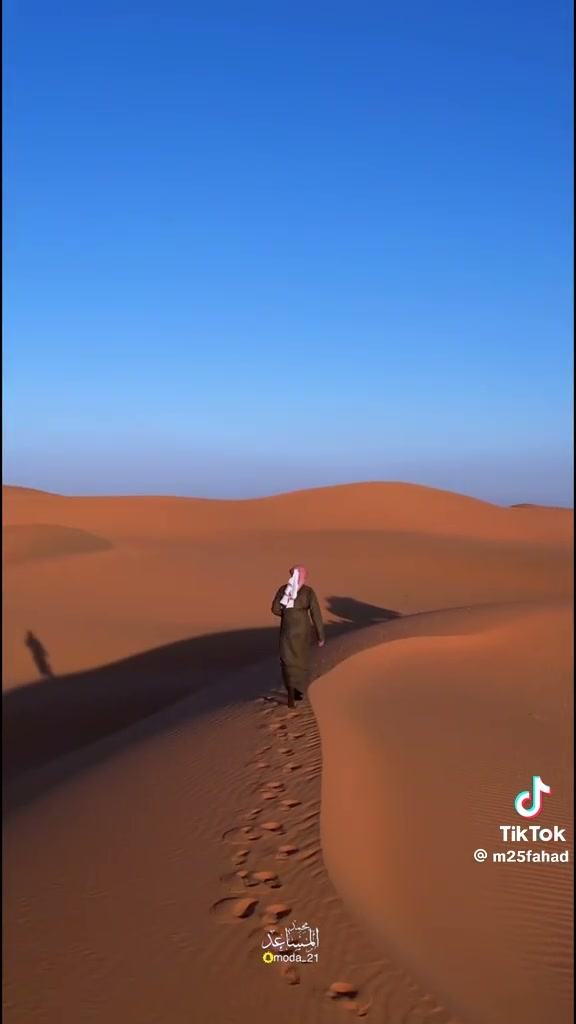human_footprint: (212, 709, 299, 928), (243, 707, 322, 946), (211, 780, 284, 922), (271, 566, 324, 706), (221, 866, 281, 893), (326, 981, 371, 1016), (210, 891, 258, 923), (221, 825, 261, 845), (294, 807, 319, 834), (275, 844, 298, 860), (240, 807, 261, 821), (260, 822, 284, 834), (268, 721, 286, 735), (283, 761, 301, 773), (266, 780, 284, 791), (281, 798, 300, 808), (260, 790, 277, 800), (287, 731, 304, 740), (278, 746, 293, 755)
